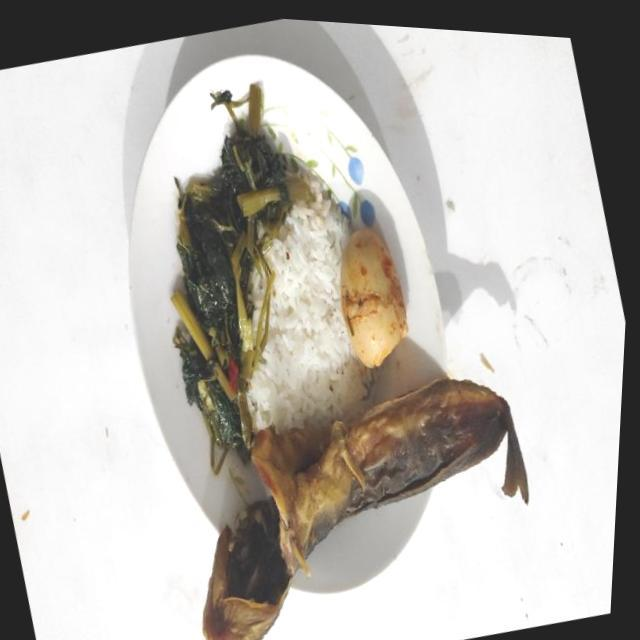nasi_putih: (247, 169, 373, 460)
tumis_kangkung: (171, 83, 314, 474)
